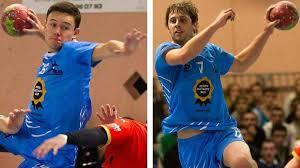ballon_handball: (2, 3, 34, 37), (269, 1, 299, 31)
